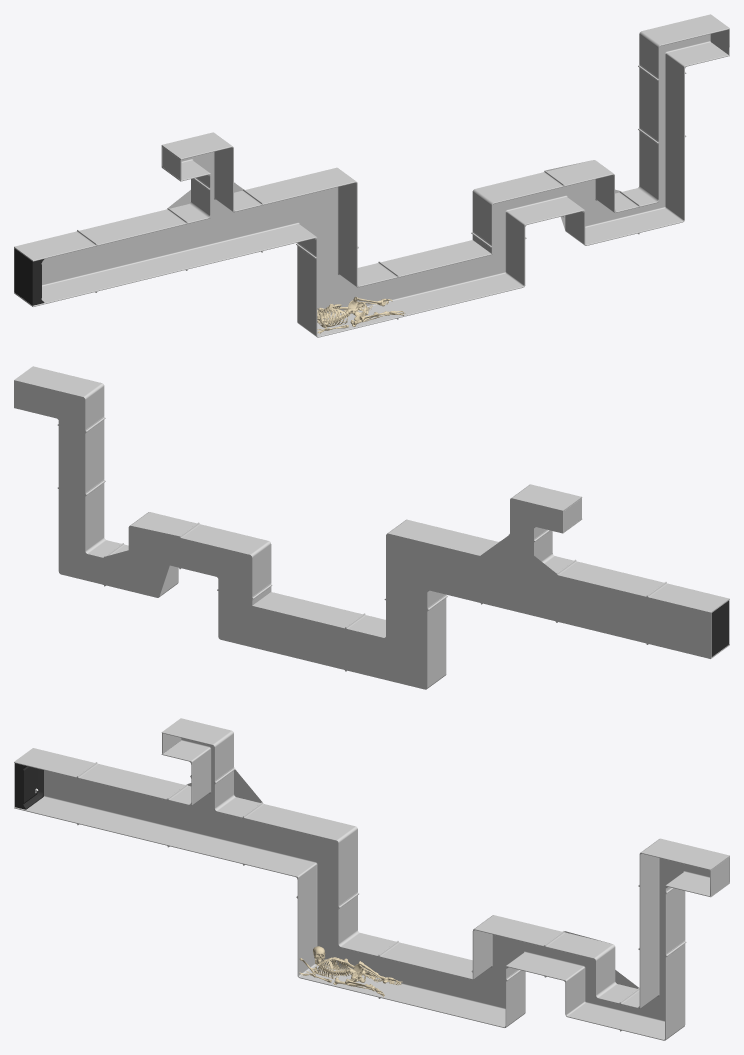
Rendered from Vents.fbx.
3 views of the same model, one above another, from view 1: azimuth 30°, elevation 25°; view 2: azimuth 150°, elevation 25°; view 3: azimuth 330°, elevation 25° (orthographic).
Parts seen in each view (by area): view 1: object5, object3, object4, object2, object11, object7, object8, object6, object10, object12, object9, object1 (+2 smaller); view 2: object5, object3, object4, object11, object2, object7, object6, object8, object12, object10, object9, object1 (+1 smaller); view 3: object5, object3, object4, object2, object11, object7, object8, object6, object12, object10, object9, object1 (+2 smaller).
Boxes of the visible parts, box(x1,y1,x2,y2) form: object5: box(379, 225, 526, 318); object3: box(244, 167, 358, 258); object4: box(296, 235, 398, 337); object2: box(168, 170, 262, 270); object11: box(78, 208, 187, 292); object7: box(545, 160, 639, 245); object8: box(621, 123, 685, 233); object6: box(471, 170, 563, 246); object10: box(638, 14, 729, 79); object12: box(14, 230, 96, 306); object9: box(638, 60, 685, 143); object1: box(161, 132, 234, 189); object5: box(217, 585, 364, 671); object3: box(384, 519, 499, 610); object4: box(345, 596, 447, 689); object11: box(556, 560, 665, 644); object2: box(481, 530, 575, 622); object7: box(104, 512, 198, 597); object6: box(180, 522, 271, 598); object8: box(58, 481, 122, 586); object12: box(647, 582, 729, 658); object10: box(14, 366, 105, 431); object9: box(57, 418, 105, 494); object1: box(509, 484, 582, 541); object5: box(379, 941, 525, 1027); object3: box(243, 802, 358, 907); object4: box(296, 884, 397, 998); object2: box(168, 764, 262, 865); object11: box(77, 762, 186, 846); object7: box(545, 931, 638, 1030); object8: box(620, 936, 686, 1040); object6: box(471, 915, 563, 980); object12: box(14, 748, 96, 824); object10: box(638, 838, 729, 897); object9: box(638, 873, 685, 955); object1: box(161, 718, 234, 782).
Size of the model in its own units: 1429 by 419 by 73.29.
